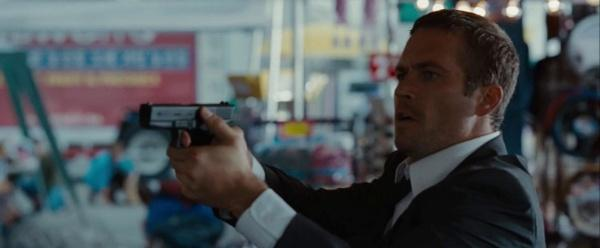Gun: (138, 101, 234, 145)
